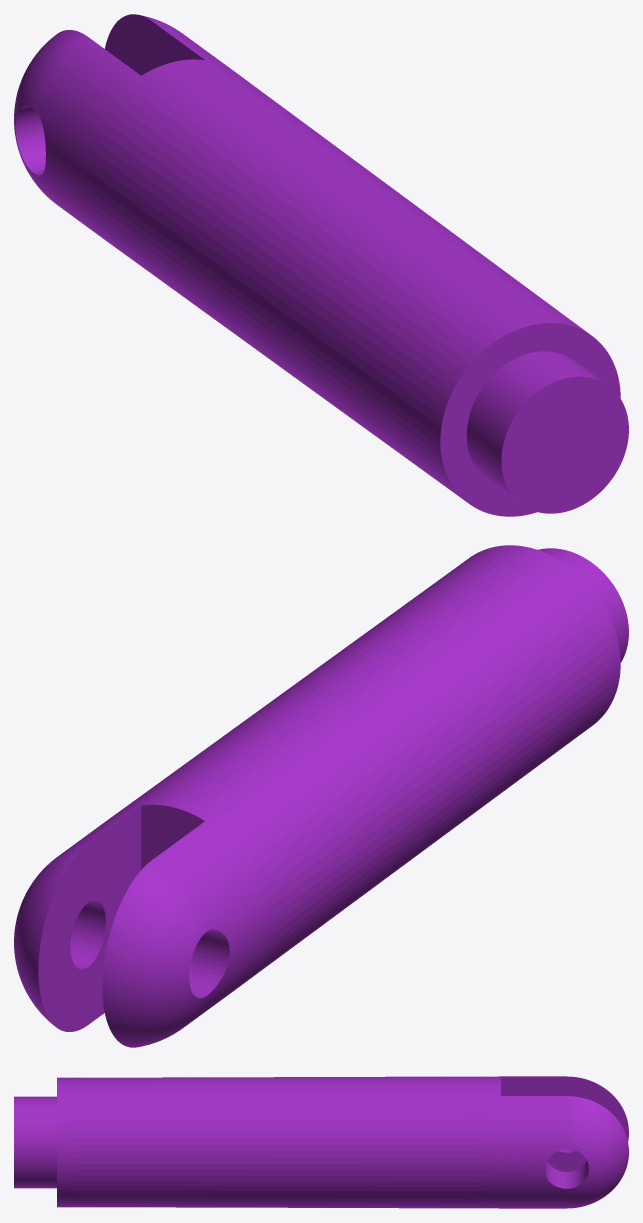
3 views of the same model, one above another, from view 1: azimuth 30°, elevation 25°; view 2: azimuth 150°, elevation 25°; view 3: azimuth 270°, elevation 25° (orthographic). The views are drawn at different scales.
Visible parts, largest first — view 1: node; view 2: node; view 3: node.
Boxes of the visible parts, left/top/right/bottom form: node: left=14, top=14, right=628, bottom=516; node: left=14, top=545, right=628, bottom=1047; node: left=14, top=1076, right=628, bottom=1208.
Bounding box in the file's own units: 0.0743 × 0.0743 × 0.3463.
